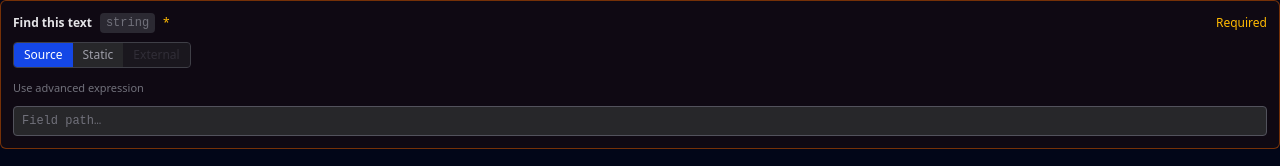
Test case: ParameterValueInput — AE-04: expression inline link › clicking the expression link shows a plain expression textarea
Click the button with test id "pvi-expression-link": (78, 88) [13, 80, 144, 96]
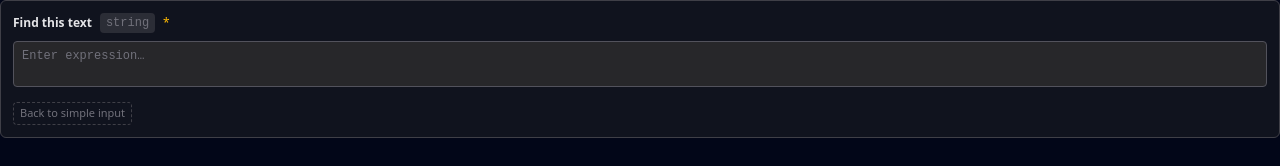
Expected: the text box with test id "pvi-expression-input" is shown, [13, 41, 1267, 87]
